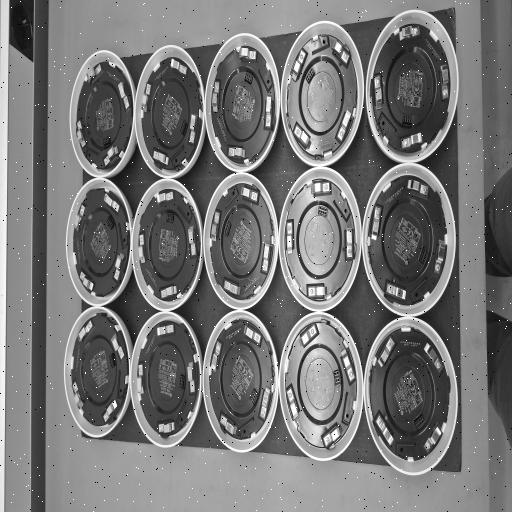konnektor: (304, 64, 317, 90), (162, 211, 181, 227), (412, 412, 425, 435), (248, 389, 261, 411), (400, 110, 415, 129), (105, 214, 119, 234), (330, 365, 344, 385), (242, 68, 255, 86), (179, 118, 188, 140), (101, 132, 113, 148), (419, 245, 428, 266), (177, 375, 186, 396), (222, 220, 233, 236), (108, 352, 116, 372), (318, 206, 328, 219)
yayli: (373, 410, 396, 450), (215, 410, 242, 444), (423, 337, 445, 375), (304, 270, 330, 302), (430, 235, 448, 280), (375, 335, 396, 373), (259, 90, 277, 134), (382, 275, 409, 304), (404, 176, 431, 204), (286, 379, 302, 426), (256, 238, 274, 279), (336, 102, 354, 143), (291, 121, 314, 150), (424, 420, 444, 452), (298, 321, 320, 350), (139, 79, 153, 124), (238, 182, 262, 208), (372, 71, 385, 119), (291, 47, 306, 88), (100, 184, 121, 213), (396, 22, 425, 43), (154, 320, 179, 344), (223, 141, 248, 165), (341, 342, 355, 384), (150, 146, 171, 174), (402, 130, 426, 154), (440, 59, 452, 107), (187, 105, 201, 146), (259, 382, 272, 426), (241, 322, 263, 348), (324, 422, 346, 448), (371, 202, 384, 246), (77, 267, 96, 297), (111, 250, 126, 288), (116, 74, 131, 112), (331, 39, 350, 69), (221, 274, 242, 301), (344, 220, 356, 266), (210, 335, 223, 377), (210, 208, 223, 249), (307, 178, 335, 197), (185, 223, 199, 261), (158, 280, 182, 302), (84, 63, 104, 89), (210, 76, 223, 116), (77, 316, 94, 346), (72, 198, 86, 234), (71, 378, 85, 414), (102, 144, 120, 172), (169, 54, 189, 79), (135, 360, 146, 404), (111, 328, 126, 360), (153, 186, 176, 206), (138, 227, 150, 265), (284, 214, 294, 259), (157, 416, 177, 438), (102, 399, 119, 424), (75, 118, 87, 153), (186, 357, 196, 398), (234, 46, 259, 62)
